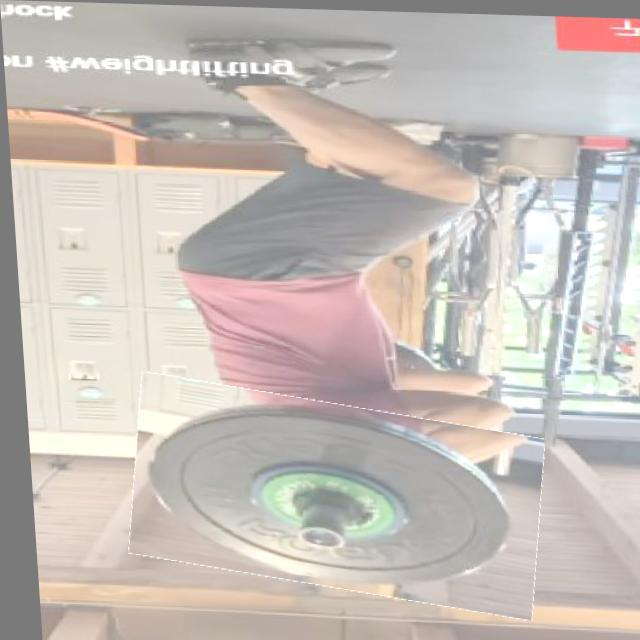barbell: (119, 385, 543, 606)
